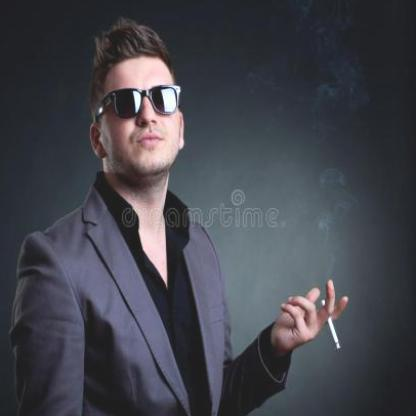cigarette: (321, 300, 344, 352)
person: (19, 21, 250, 415)
